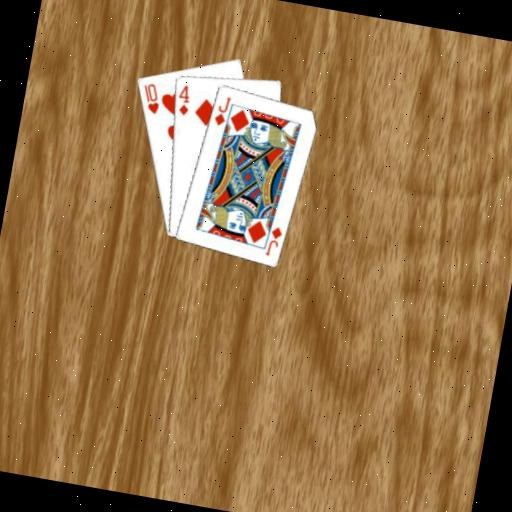10H: (136, 78, 164, 115)
4D: (173, 80, 194, 117)
JD: (209, 91, 233, 128), (261, 222, 284, 258)
